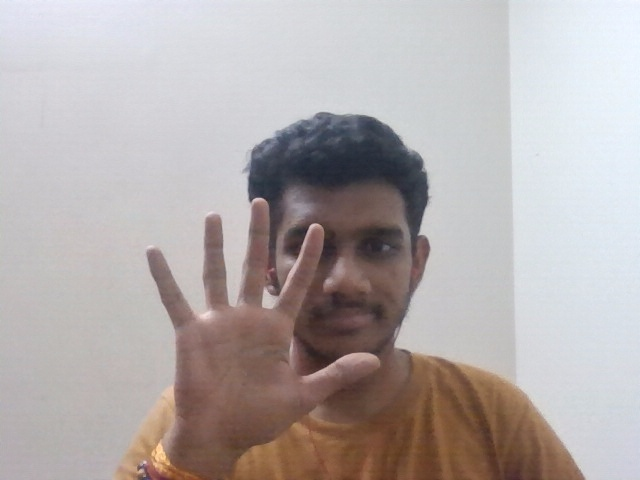hello: (142, 198, 383, 435)
